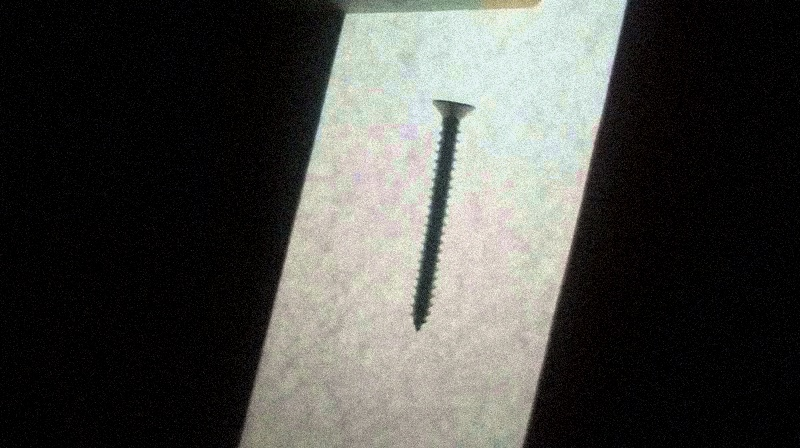S002: (409, 95, 478, 332)
